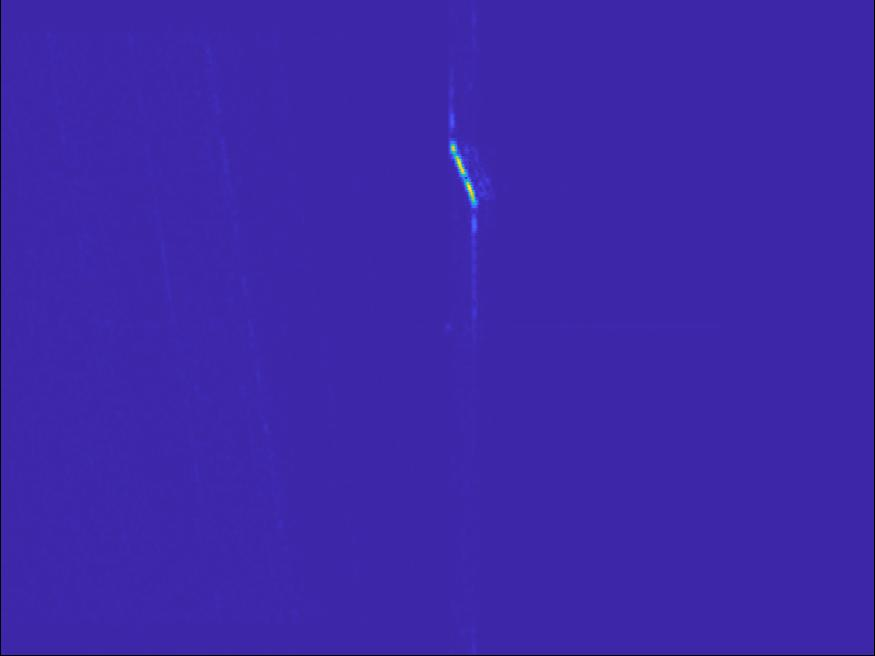Interference: (292, 153, 470, 310), (627, 309, 728, 357)
